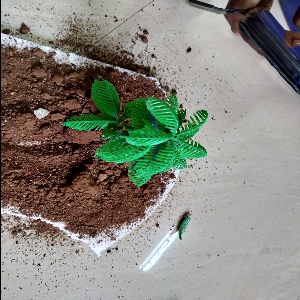plant: (68, 73, 205, 181)
